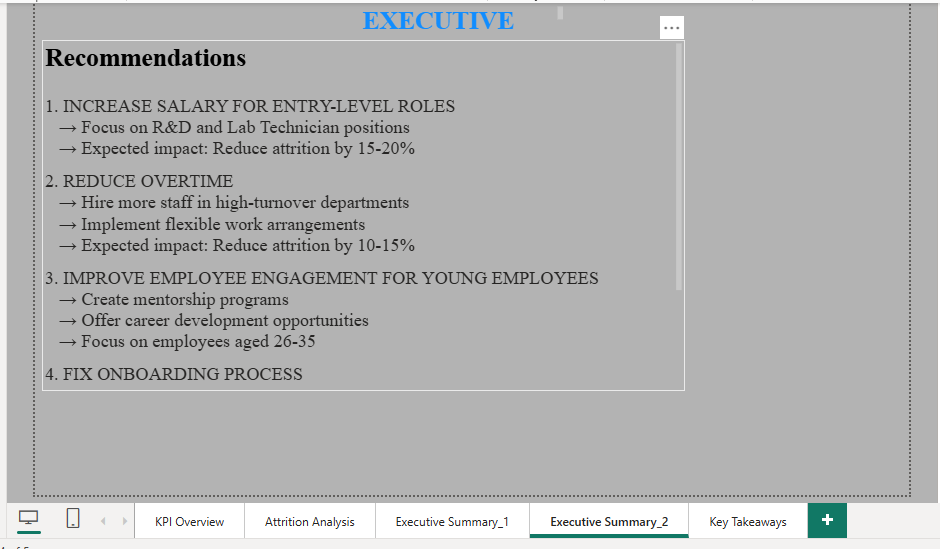

The page's visual inventory and layout, read from the dashboard file:
{"tool":"powerbi","page":{"name":"Executive Summary_2","canvas":[1280,720],"ordinal":3},"visuals":[{"type":"textbox","box":[9.6,54.1,1068.3,514.2],"z":0},{"type":"textbox","box":[412.3,0,364.6,54.1],"z":1000}]}

Visuals, with their boxes on the page's 1280x720 design canvas (x1, y1, x2, y2). These are canvas units, not pixel positions in the 940x549 screenshot, which may show the page scaled, cropped or inside an application window:
textbox: locate(10, 54, 1078, 568)
textbox: locate(412, 0, 777, 54)
